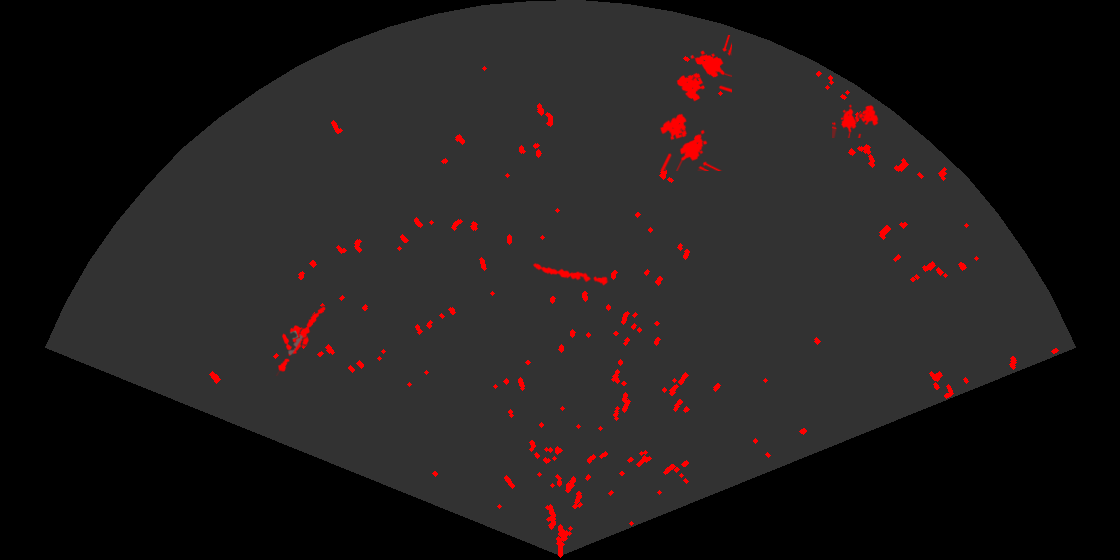ball: (280, 324, 311, 352)
cage: (675, 35, 732, 103), (658, 112, 723, 171), (832, 103, 880, 138)
chain: (274, 305, 327, 376), (531, 261, 609, 287)
